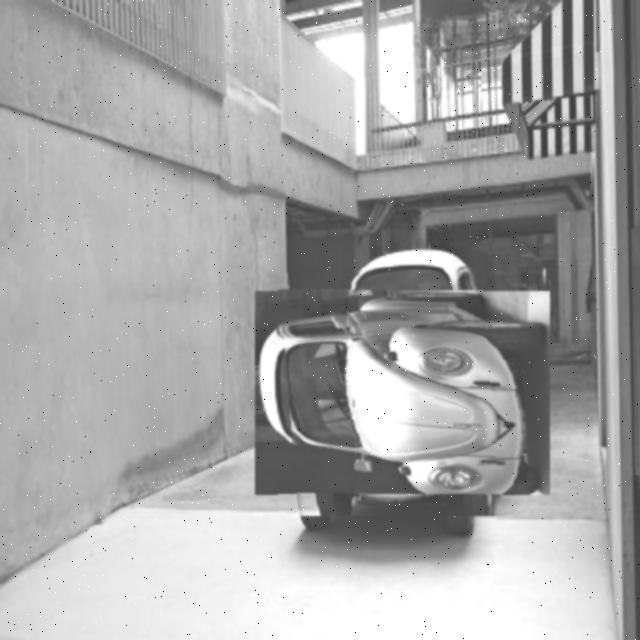car: (279, 269, 528, 519)
